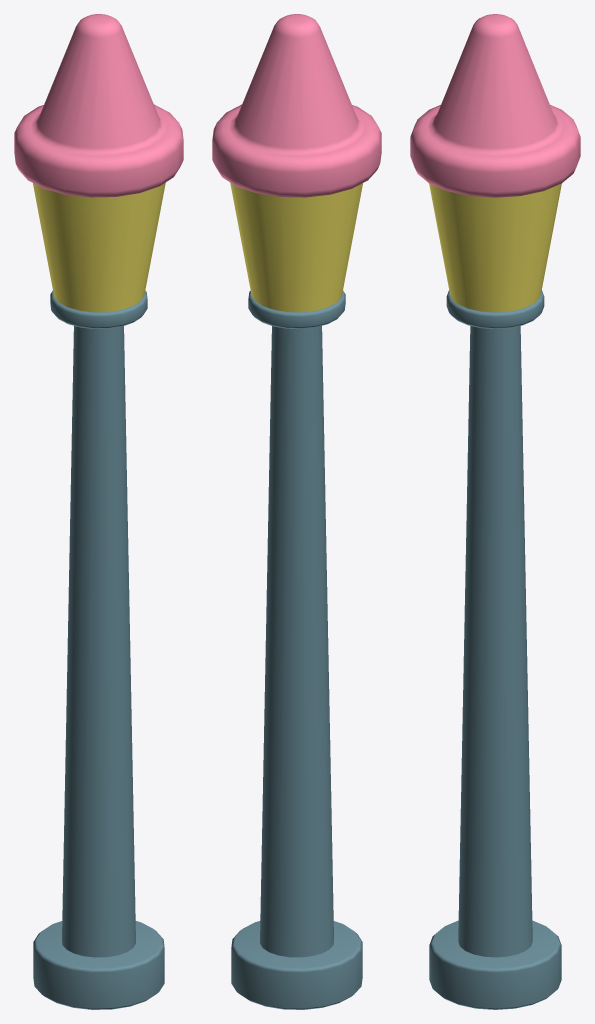
File: Store_4_Street_Lamp_1.glb
3 views of the same model, side by side, from view 1: azimuth 30°, elevation 25°; view 2: azimuth 150°, elevation 25°; view 3: azimuth 270°, elevation 25° (orthographic).
Visible parts, largest first — view 1: Store_4_Street_Lamp_1; view 2: Store_4_Street_Lamp_1; view 3: Store_4_Street_Lamp_1.
Boxes of the visible parts, x1=… form: Store_4_Street_Lamp_1: x1=14, y1=14, x2=183, y2=1009; Store_4_Street_Lamp_1: x1=212, y1=14, x2=381, y2=1009; Store_4_Street_Lamp_1: x1=410, y1=14, x2=580, y2=1009.
Size of the model in its own units: 0.6172 by 3.86 by 0.6172.
1 material, 1 textured.
